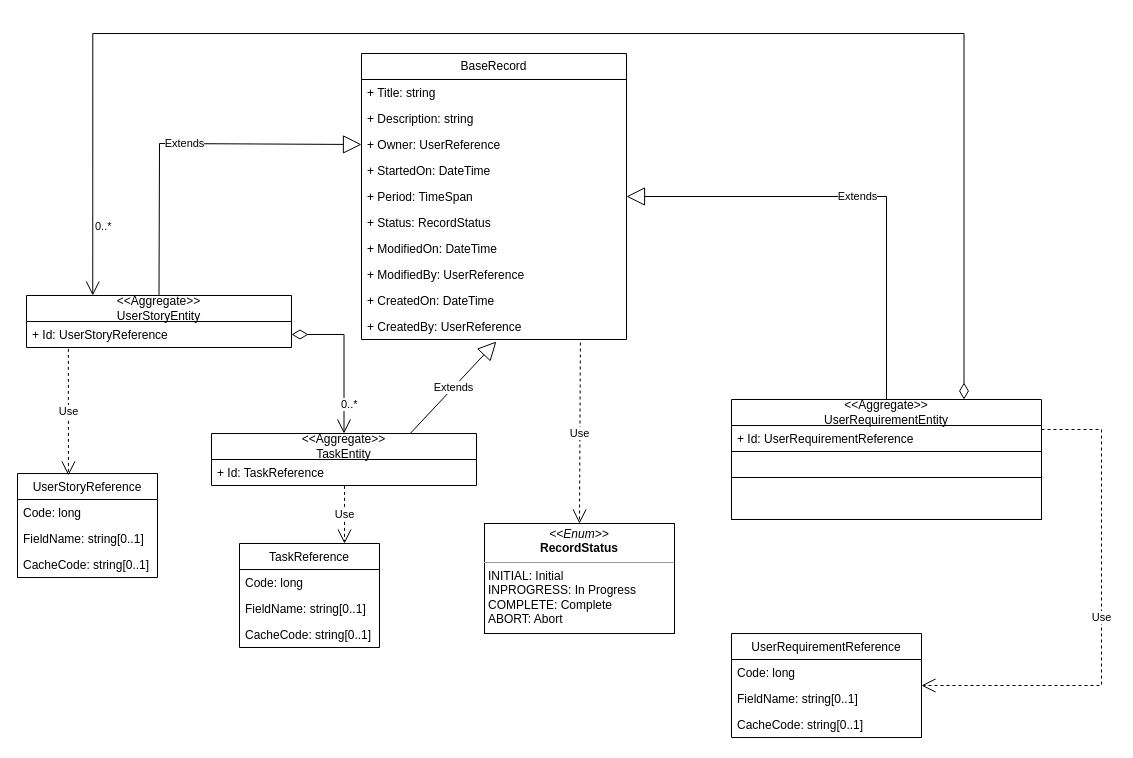
The diagram is 1133 pixels wide and 758 high, and some of its shapes have lost their labels. The centre of each missing label's shape, as x and y in pixels:
+ Create(CreatedBy: UserReference): UserRequirementEntity: pixel 886 498
Methods: pixel 886 464
